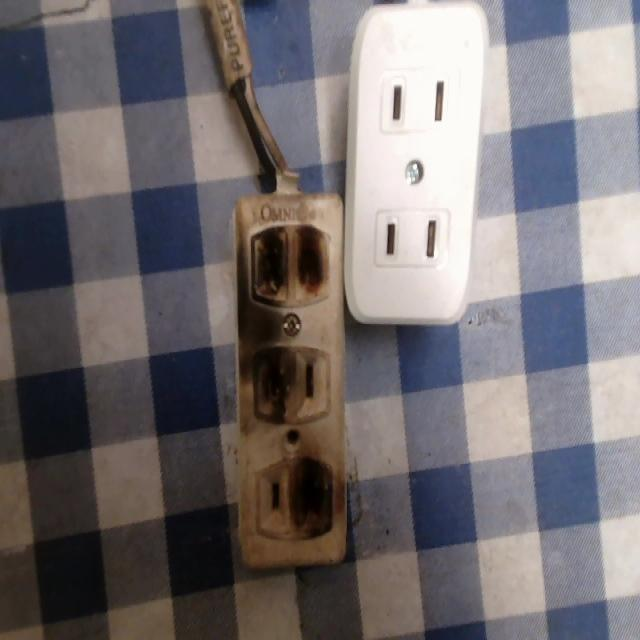-: (250, 222, 337, 310), (289, 451, 337, 544), (252, 339, 298, 416)
